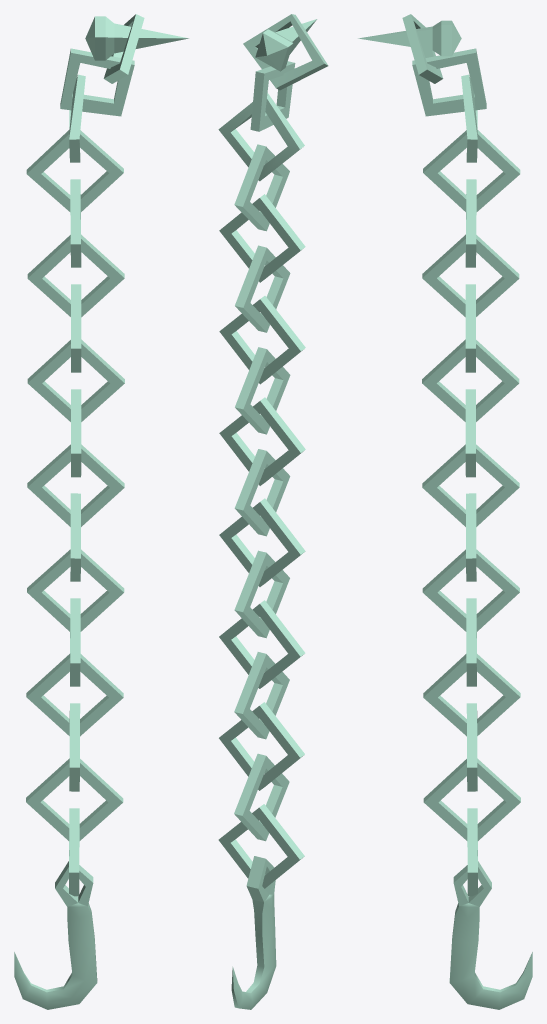
File: HangingChain.fbx
3 renders of one model, left to right at view 1: azimuth 90°, elevation 25°; view 2: azimuth 150°, elevation 25°; view 3: azimuth 270°, elevation 25°, orthographic. The views are drawn at different scales.
Parts seen in each view (by area): view 1: HangingChain, WallNail, Hook; view 2: HangingChain, WallNail, Hook; view 3: HangingChain, WallNail, Hook.
Part boxes in pixels (<box>): HangingChain: <box>26,129,124,896</box>; WallNail: <box>60,14,188,162</box>; Hook: <box>14,861,97,1009</box>; HangingChain: <box>218,144,305,888</box>; WallNail: <box>218,14,328,181</box>; Hook: <box>231,856,276,1009</box>; HangingChain: <box>422,129,520,896</box>; WallNail: <box>358,14,486,162</box>; Hook: <box>449,861,532,1009</box>.
Bounding box in the file's own units: 20.37 × 230 × 36.64.
